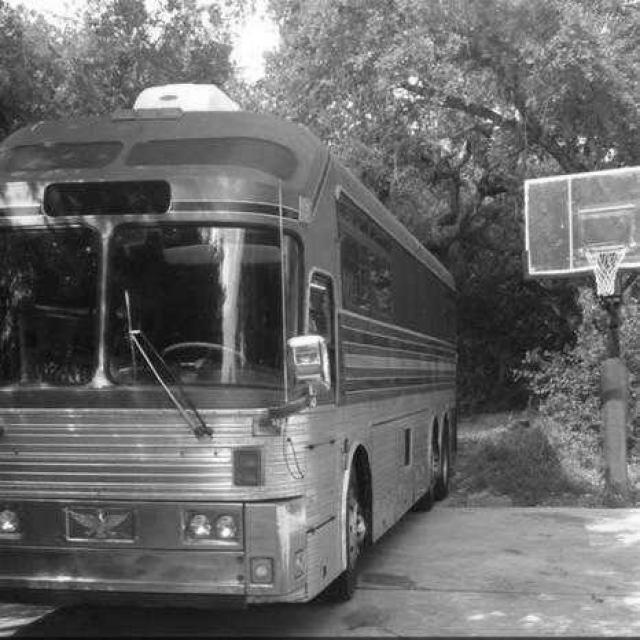Bus: (21, 94, 467, 618)
